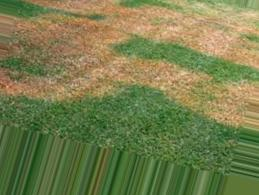patch: (197, 22, 252, 53), (41, 27, 94, 53), (138, 65, 183, 81), (144, 19, 178, 37), (70, 58, 98, 77), (112, 23, 131, 40), (111, 59, 127, 75), (36, 82, 49, 90)
